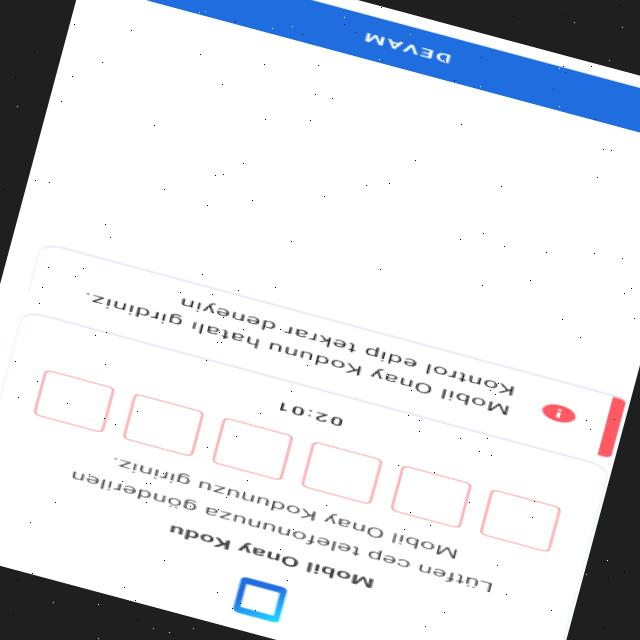QLabel: (357, 28, 453, 65)
VBtn: (96, 0, 640, 146)
VCard: (0, 304, 612, 640)
VFooter: (76, 0, 640, 160)
